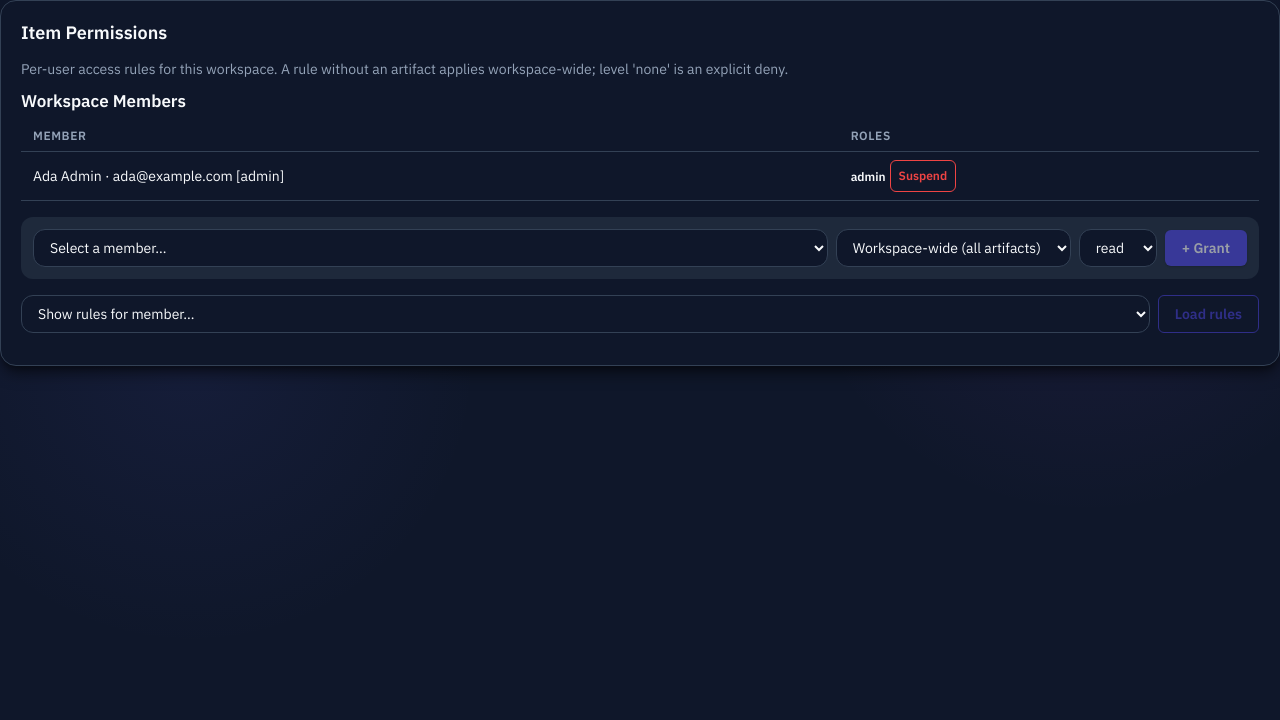
Test case: PermissionsSection — LAST_ADMIN handling › shows the last-admin UX for the canonical nested error envelope
Click the button "Suspend" at (923, 176), box [890,160,956,192]
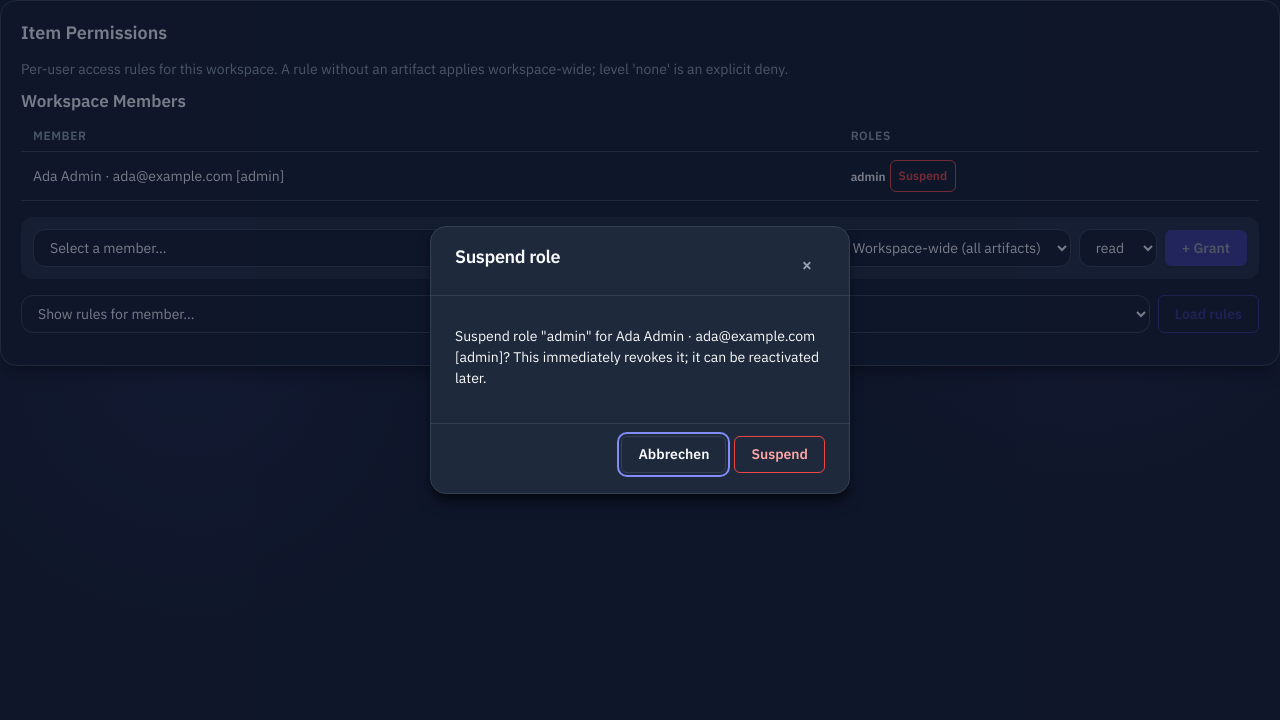
Click the button with test id "workspace-member-suspend-confirm-confirm" at (780, 454), box [734,436,825,473]
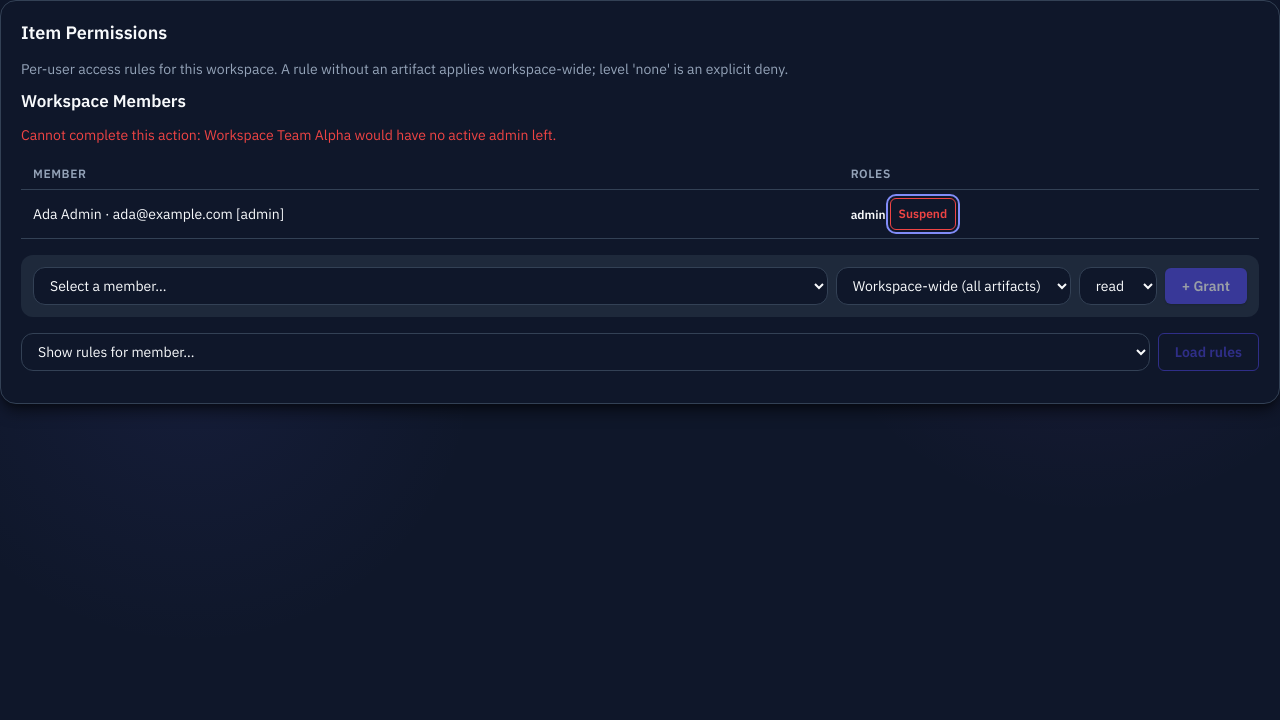
Expected: the message with test id "workspace-members-error" is not empty, [21,126,556,144]
Expected: the message with test id "workspace-members-error" shows "Cannot complete this action: Workspace Team Alpha would have no active admin left.", [21,126,556,144]
